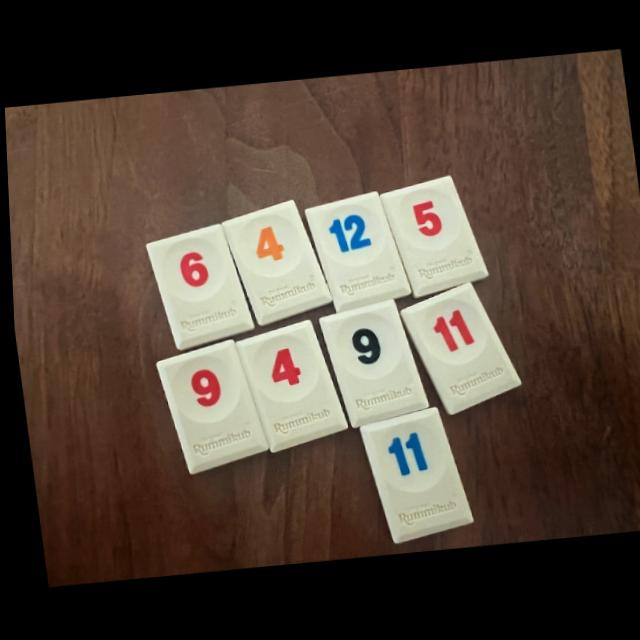black_9: (316, 301, 423, 428)
blue_11: (355, 407, 467, 542)
blue_12: (304, 193, 408, 311)
orange_4: (220, 200, 328, 325)
red_11: (397, 283, 517, 414)
red_4: (233, 321, 343, 452)
red_5: (379, 176, 484, 298)
red_6: (144, 224, 251, 350)
red_9: (153, 340, 264, 474)
